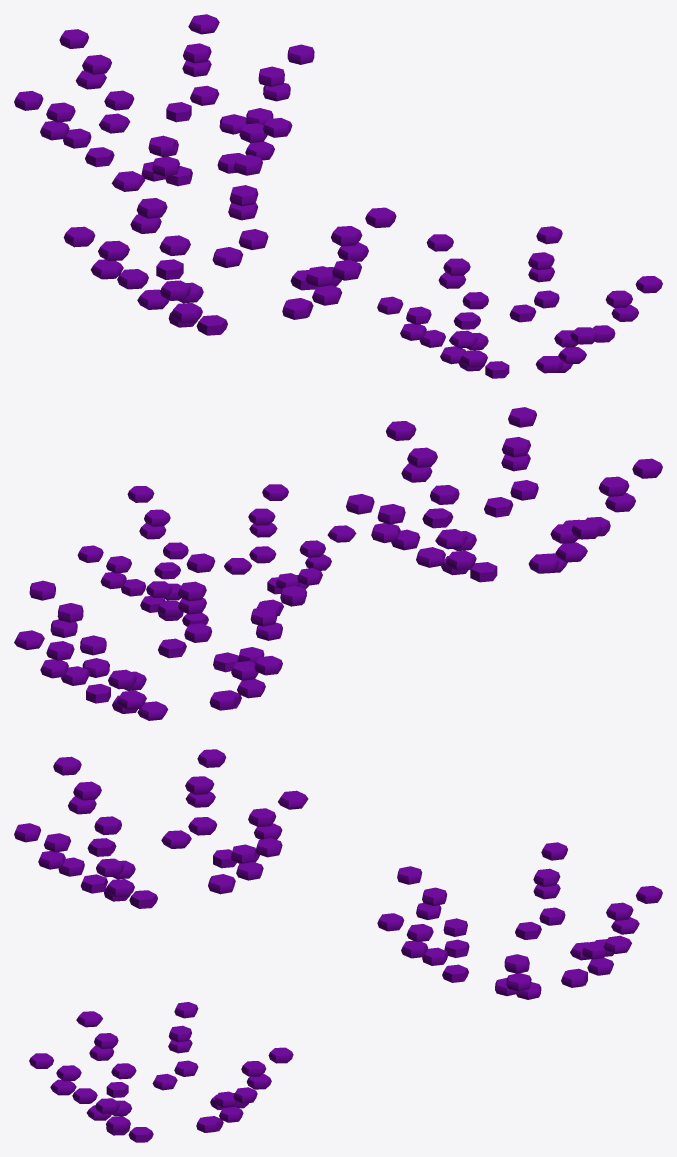
Rendered from TallGrassAlienGlowParts.fbx.
3 renders of one model, top to bottom at view 1: azimuth 30°, elevation 25°; view 2: azimuth 150°, elevation 25°; view 3: azimuth 270°, elevation 25°, orthographic. The views are drawn at different scales.
Visible parts, largest first — view 1: no part large enough to name; view 2: polySurface100, polySurface92, polySurface106, polySurface94, polySurface111, polySurface109, polySurface90, polySurface105, polySurface98, polySurface85, polySurface112, polySurface108 (+10 smaller); view 3: no part large enough to name.
Boxes of the visible parts, x1,y1,x2,y2 form: polySurface100: (435,529,467,549); polySurface92: (555,542,587,562); polySurface106: (632,458,662,478); polySurface94: (571,519,602,539); polySurface111: (407,447,437,467); polySurface109: (422,508,453,528); polySurface90: (528,553,559,573); polySurface105: (598,476,629,496); polySurface98: (446,550,476,570); polySurface85: (416,547,445,567); polySurface112: (386,421,416,440); polySurface108: (430,485,459,504).
Bounding box in the file's own units: 3.03 × 1.04 × 3.48.
